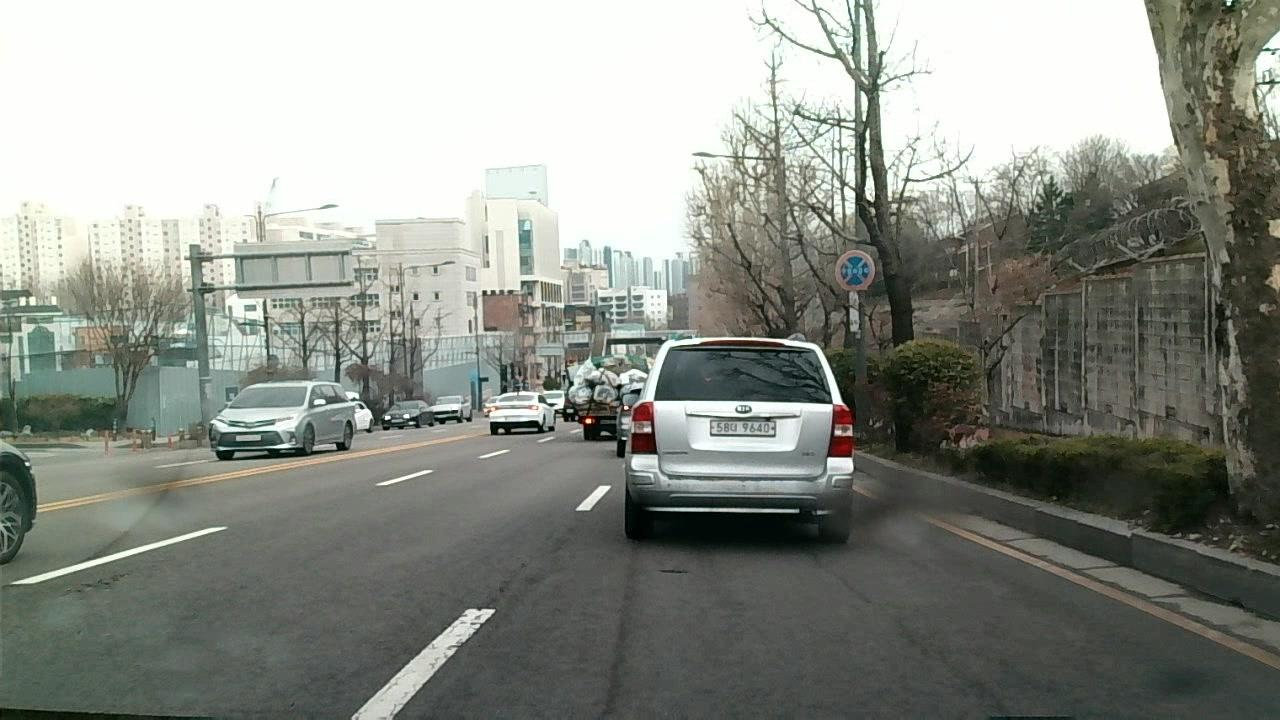banner: (827, 562, 997, 713), (475, 558, 538, 614)
